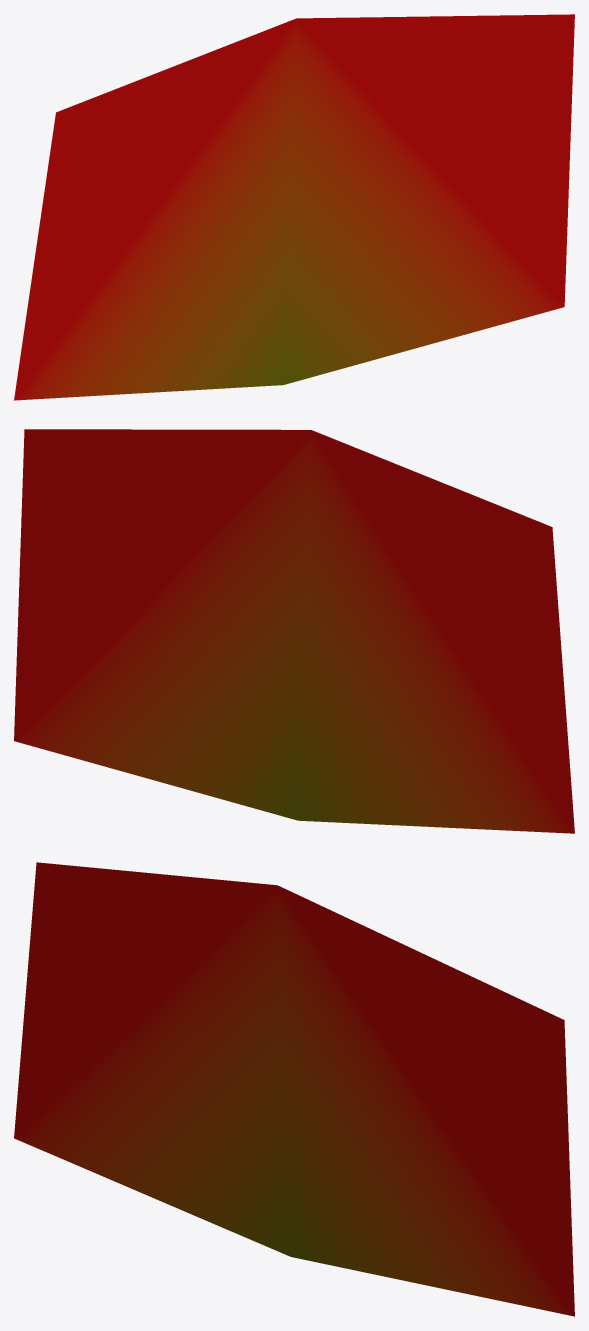
Rendered from Var4_LOD3.fbx.
3 views of the same model, one above another, from view 1: azimuth 30°, elevation 25°; view 2: azimuth 150°, elevation 25°; view 3: azimuth 330°, elevation 25° (orthographic).
Visible parts, largest first — view 1: _8349_Var4_LOD3; view 2: _8349_Var4_LOD3; view 3: _8349_Var4_LOD3.
Boxes of the visible parts, x1,y1,x2,y2 form: _8349_Var4_LOD3: (14,14,574,400); _8349_Var4_LOD3: (14,429,574,833); _8349_Var4_LOD3: (14,862,574,1316).
Size of the model in its own units: 161 by 105 by 6.53.
